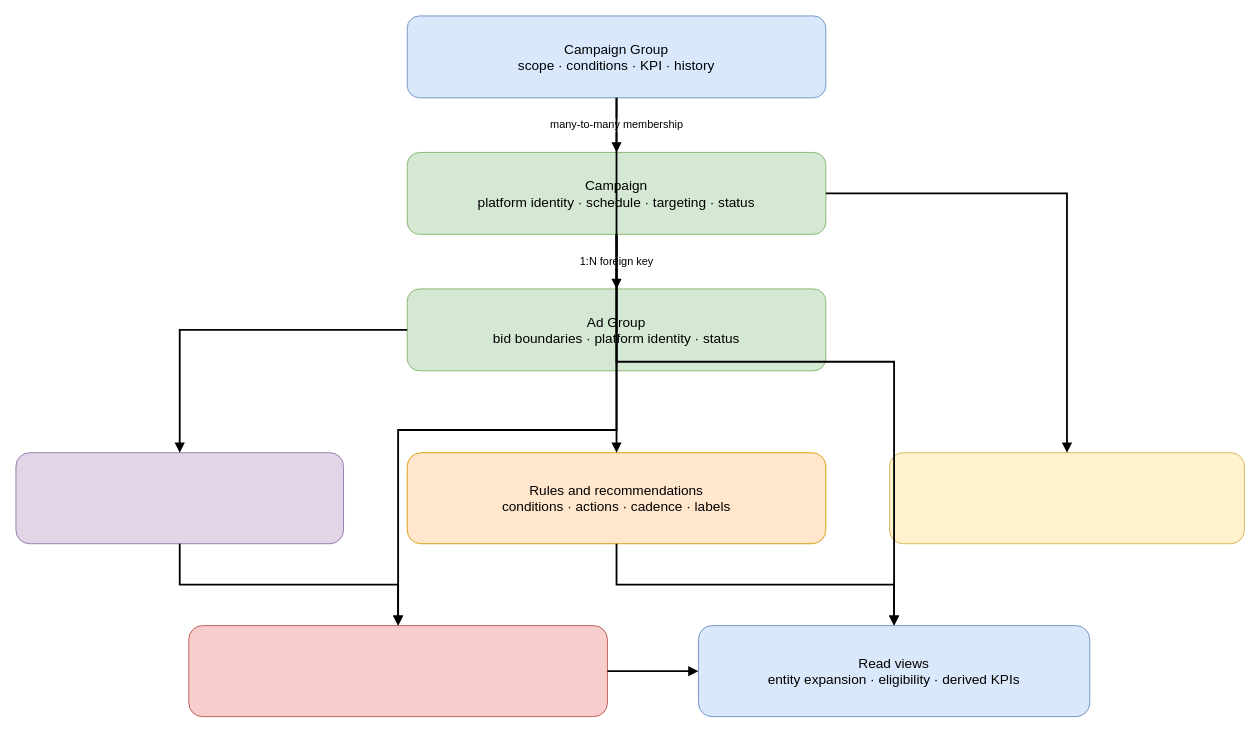
This 1260x733 diagram has some shape labels left out. Each missing label, with the centre of its shape:
"Operations and audit snapshots · changes · uploads · harvesting" goes at point 1066,498.
"Target associations Keyword · SKU · match type · status" goes at point 179,498.
"Time-series facts traffic · conversion · spend · profit · item spots" goes at point 397,671.
